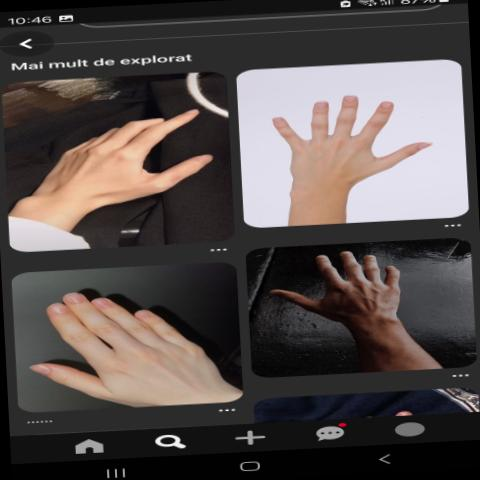hands: (15, 270, 238, 418), (9, 97, 220, 237), (250, 76, 442, 214), (268, 243, 436, 358)
